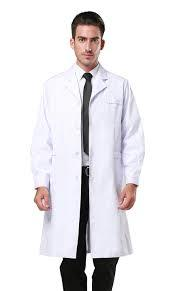lab_coat: (29, 59, 146, 262)
